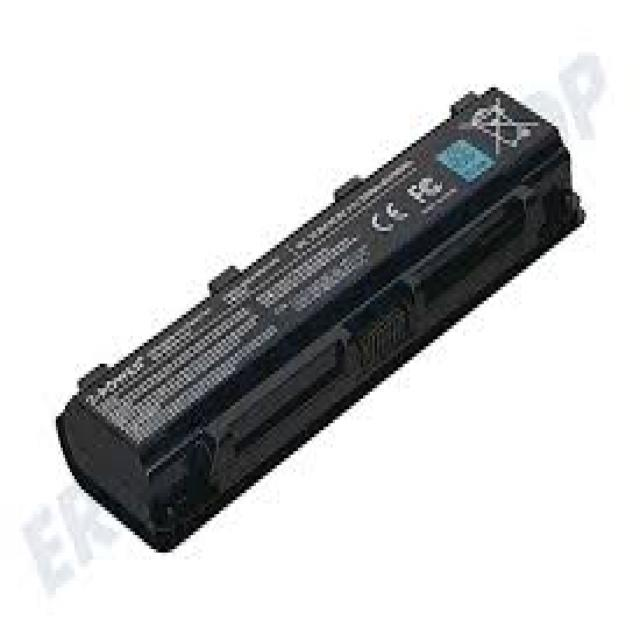non-organic waste: (53, 89, 588, 558)
